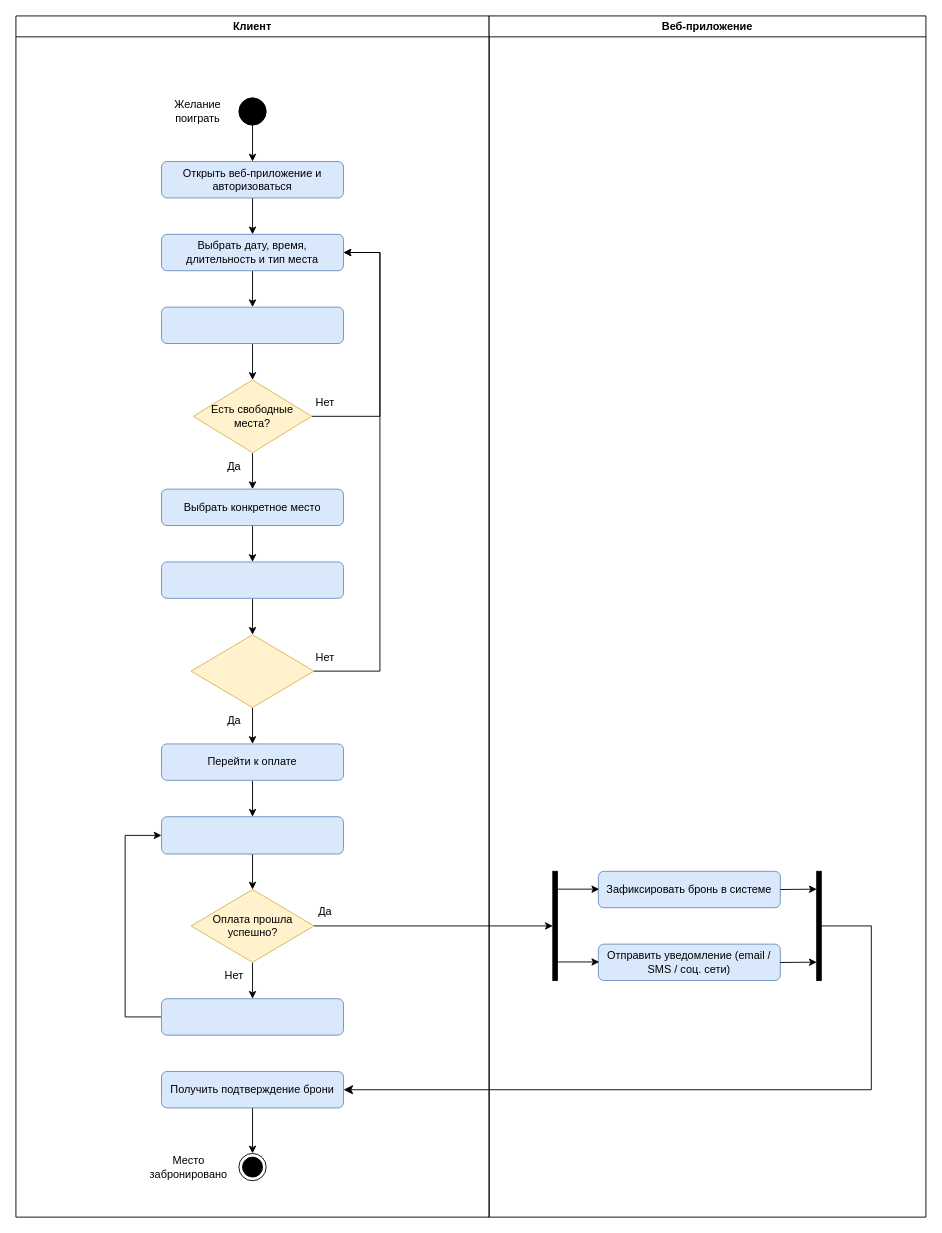
Some shapes in this 942 by 1233 pixel diagram are drawn without their labels. Here are the shapes that lost their labels. From the top down, the box of each, then its label:
(161, 306, 344, 344): Посмотреть доступные места в реальном времени
(161, 561, 344, 598): Рассчитать стоимость и применить промокод (если есть)
(190, 634, 314, 708): Согласен с суммой?
(161, 816, 344, 854): Ввести данные для оплаты (СБП / карта)
(161, 998, 344, 1035): Повторить оплату или отменить
